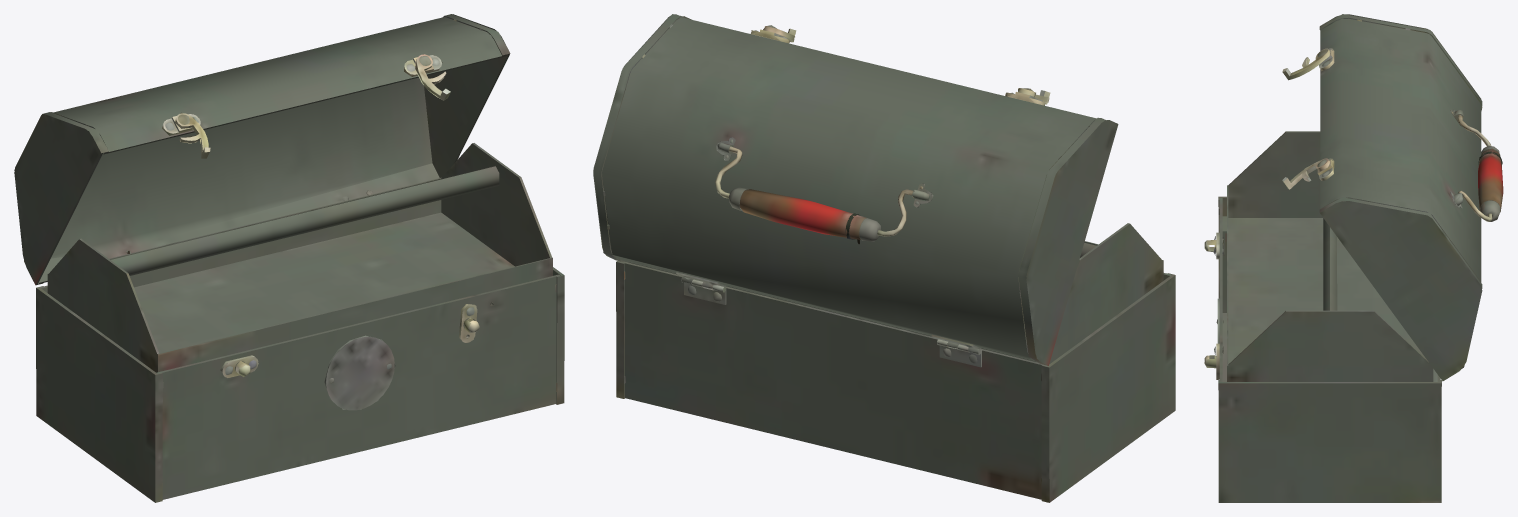
The model's file is metal_toolbox.glb.
3 views of the same model, side by side, from view 1: azimuth 30°, elevation 25°; view 2: azimuth 150°, elevation 25°; view 3: azimuth 270°, elevation 25° (orthographic). The views are drawn at different scales.
Visible parts, largest first — view 1: metal_toolbox; view 2: metal_toolbox; view 3: metal_toolbox.
Part boxes in pixels (x1,y1,x2,y2): metal_toolbox: (14,14,564,502); metal_toolbox: (593,14,1175,502); metal_toolbox: (1204,14,1503,502).
Bounding box in the file's own units: 0.4 × 0.3051 × 0.2707.
1 material, 1 textured.
